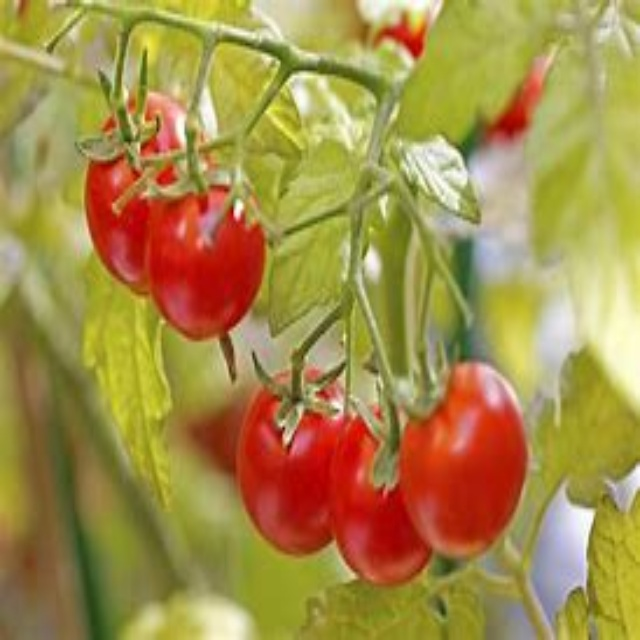tomato: (81, 99, 265, 335), (396, 356, 532, 560), (229, 369, 353, 551), (324, 415, 432, 584)
